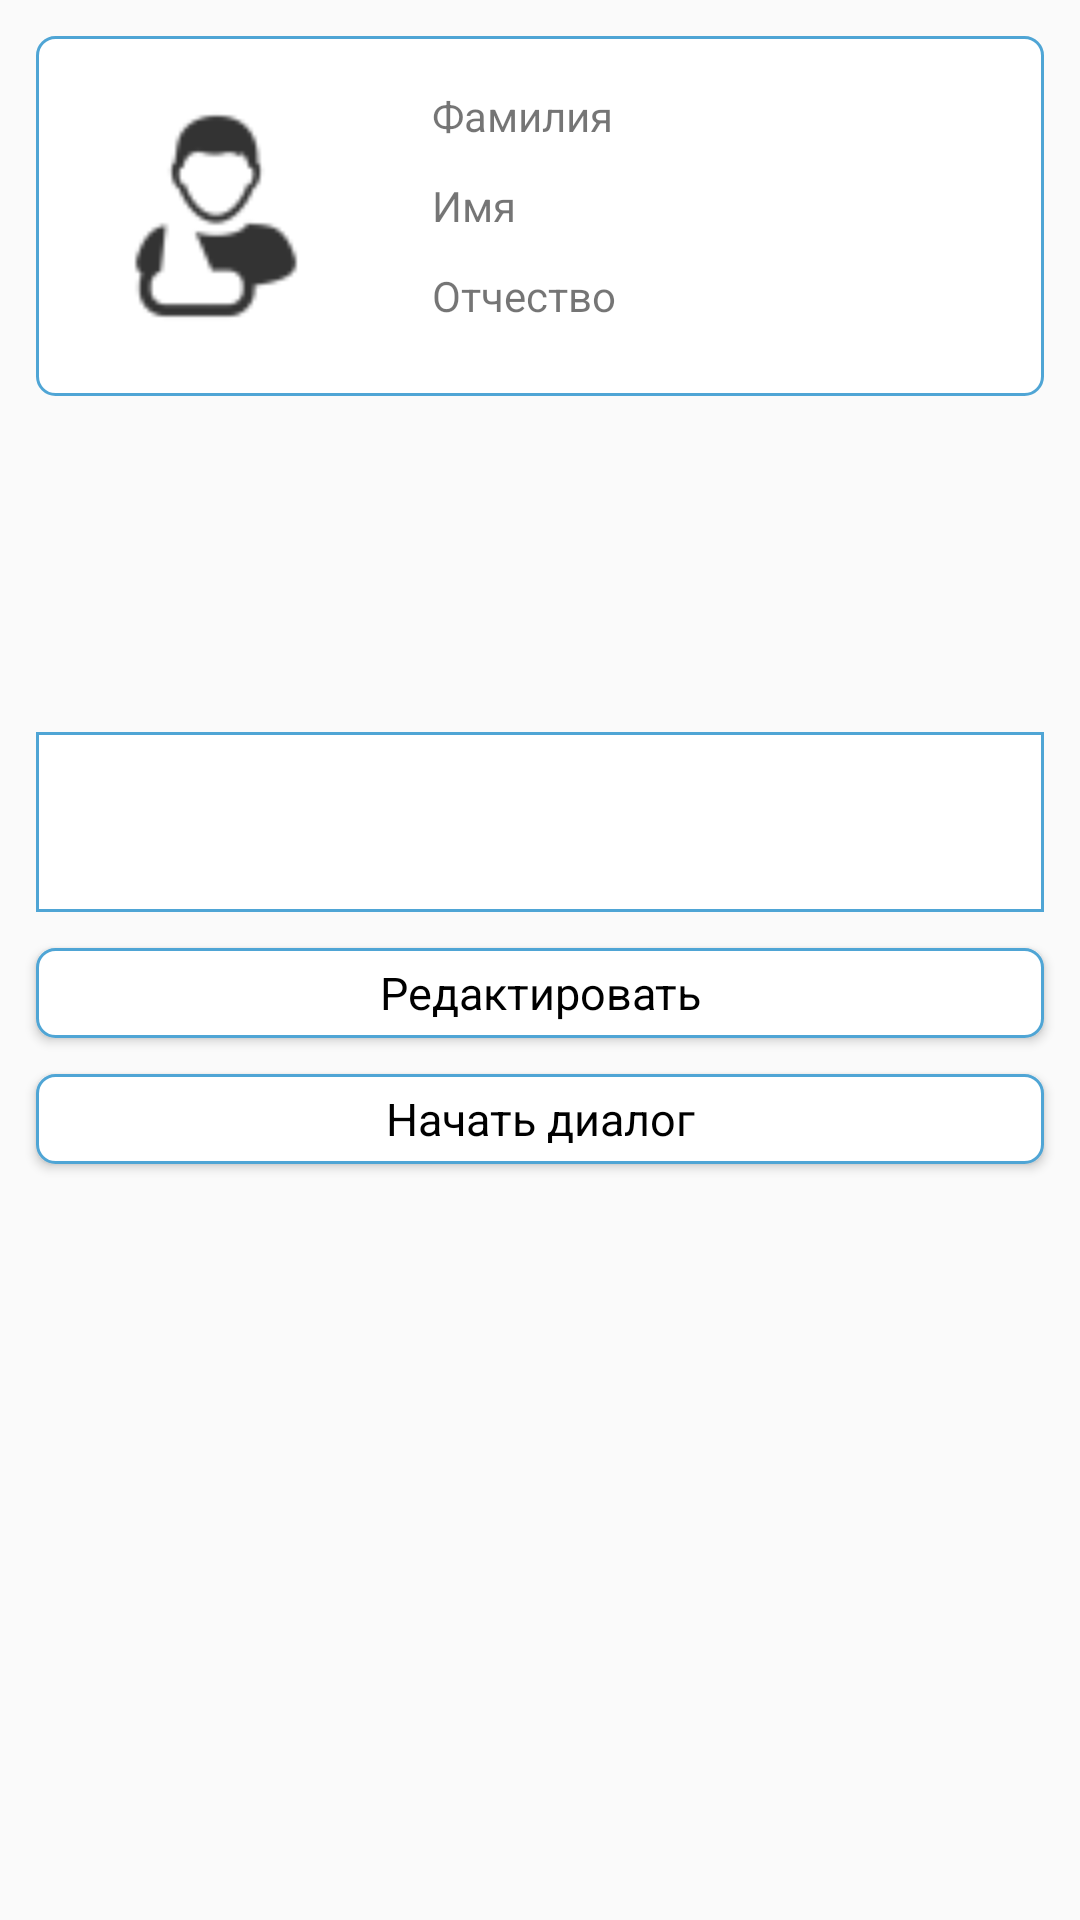

Icons on this 1080 x 1920 Android screen, each with its box as bbox=[x1, y1, x2, y2]:
patient: bbox=[135, 114, 297, 318]
